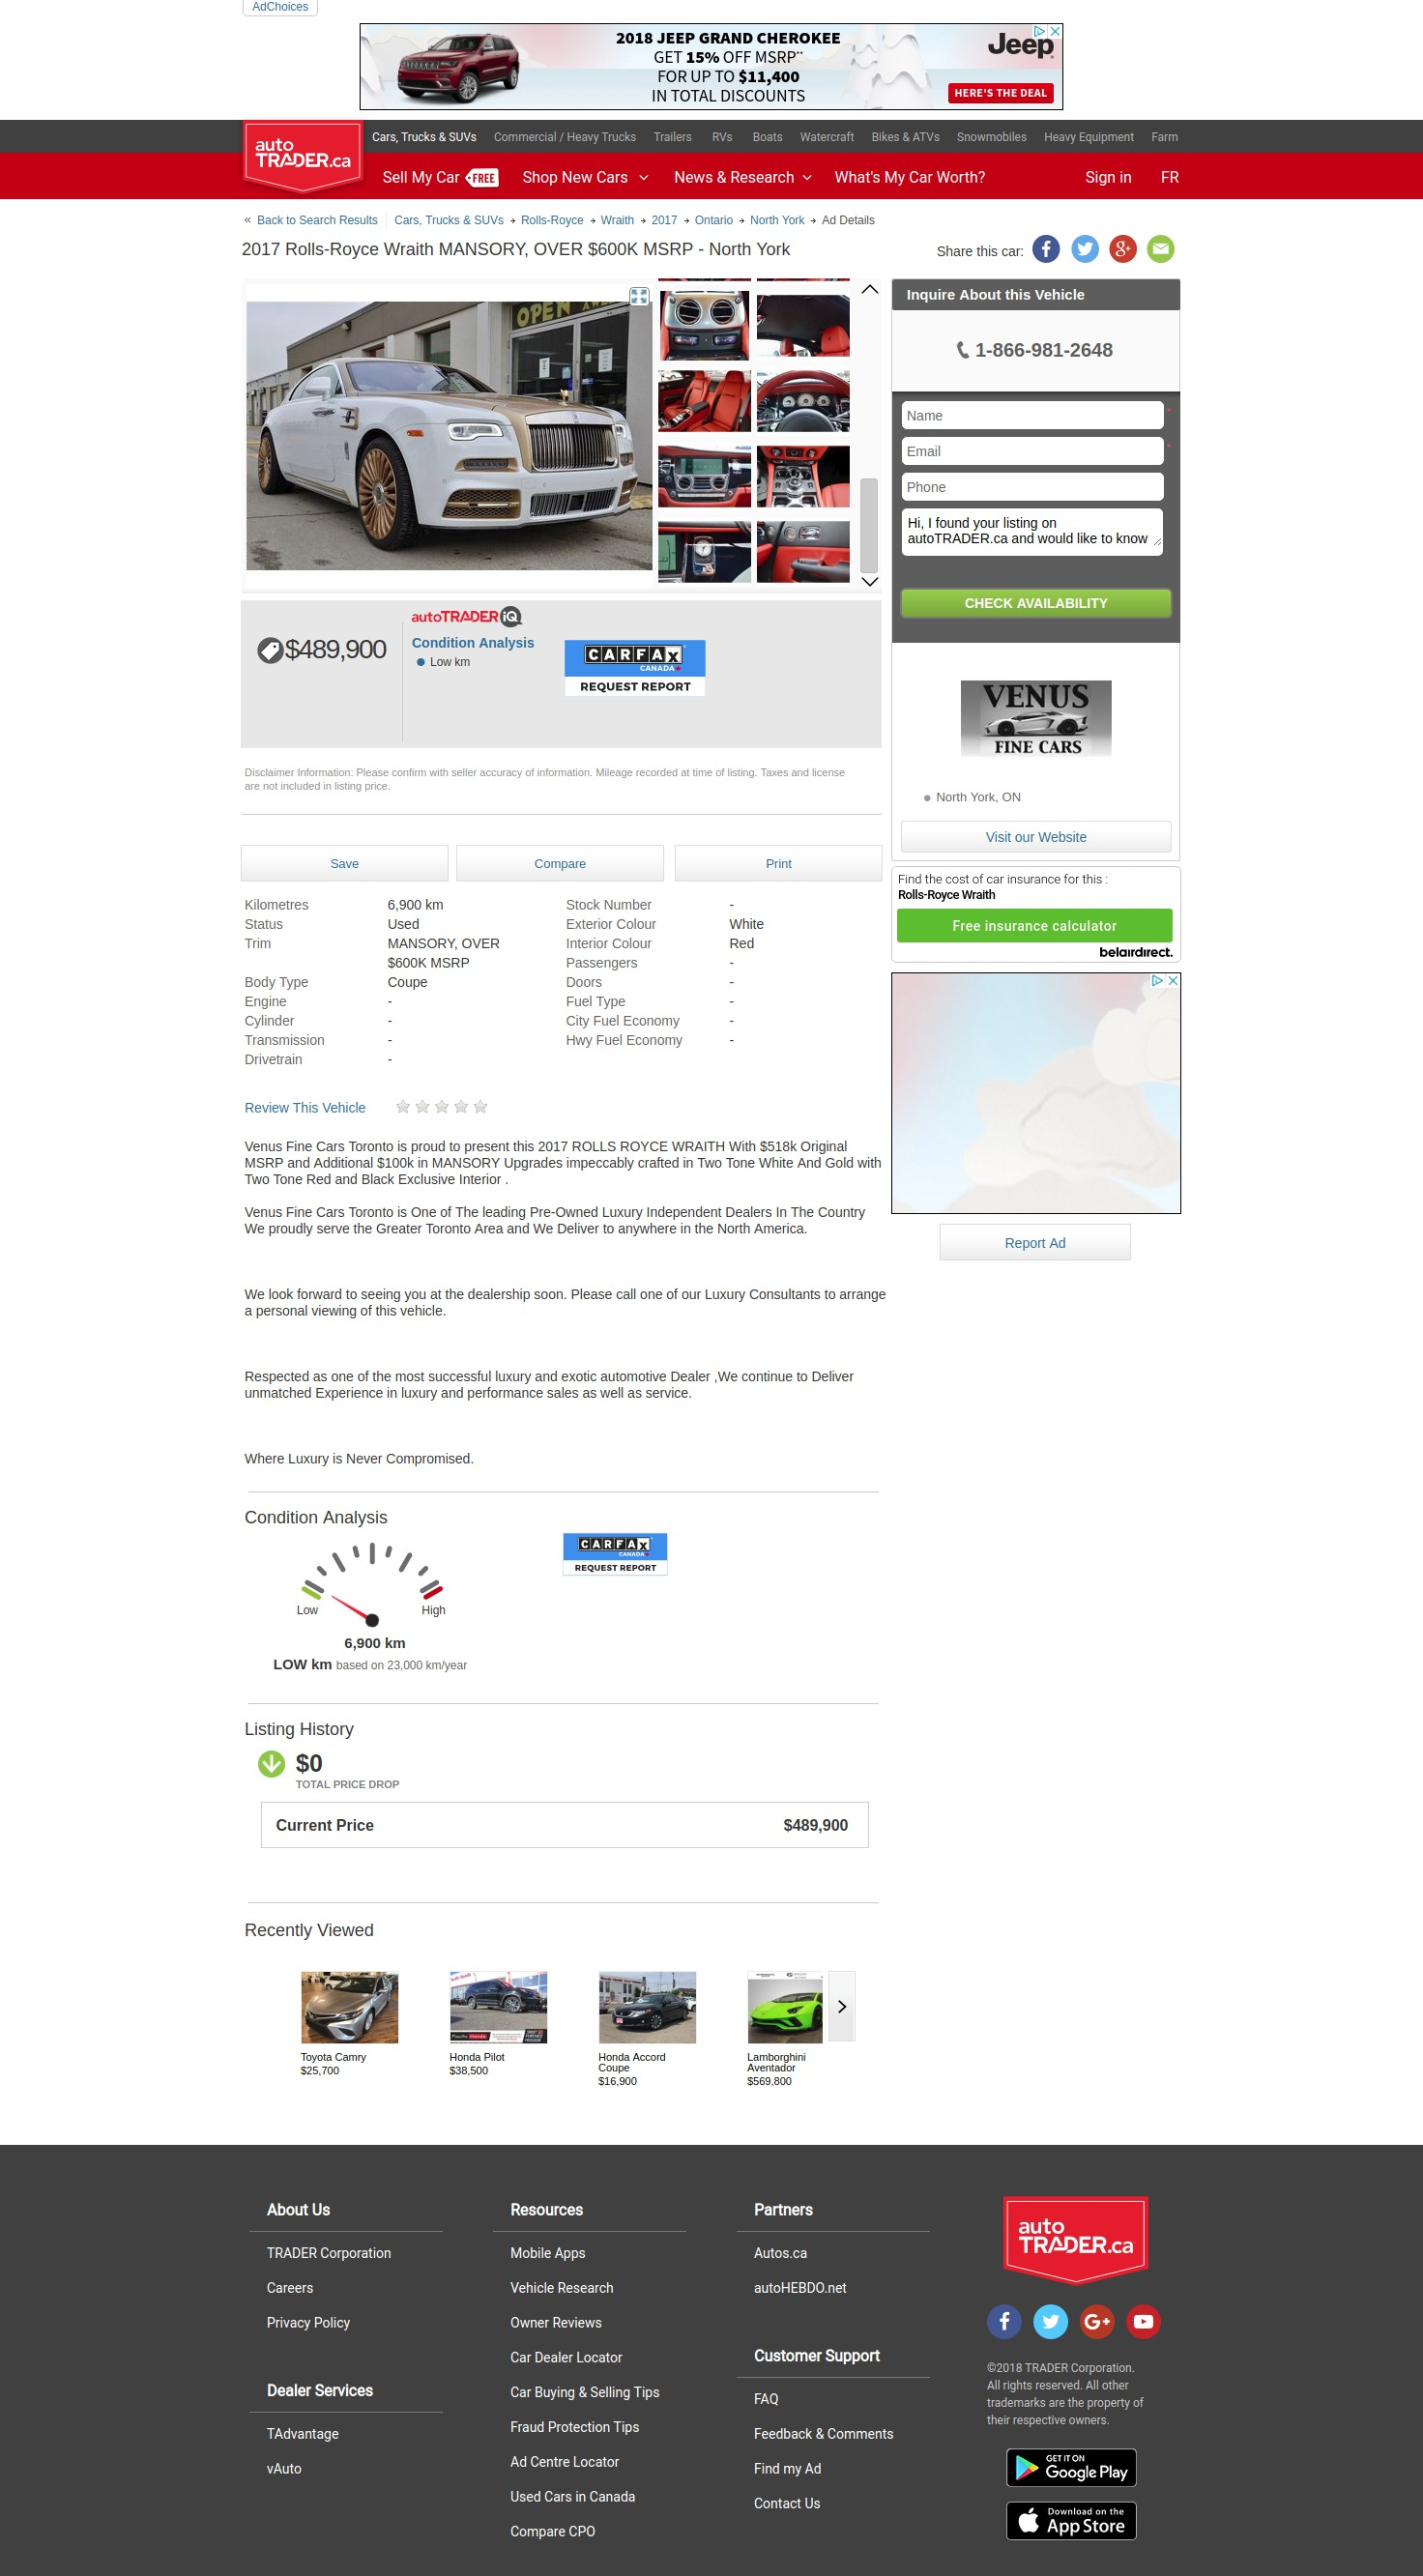car: (860, 574, 881, 588)
